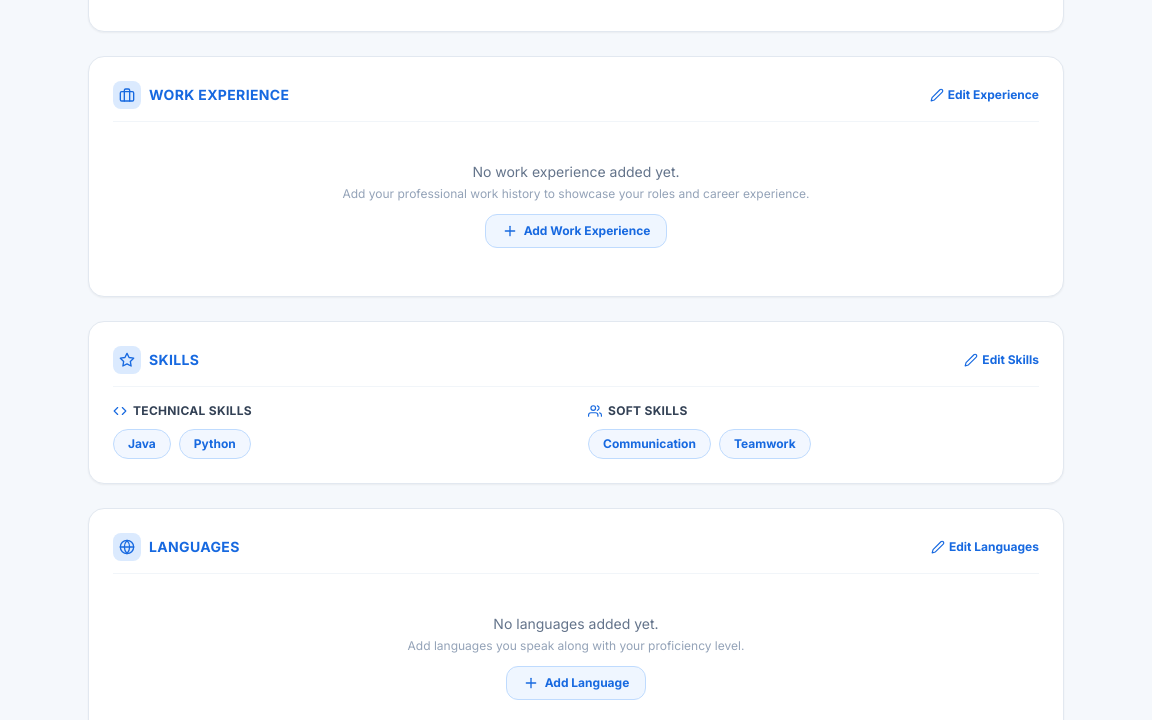
JobSeekerProfile › removes a skill from the selected category when deleted
The image size is (1152, 720).
(page scrolled)
Step 1. Click the button "Edit Skills" → click(1002, 360), box [964,352,1039,368]
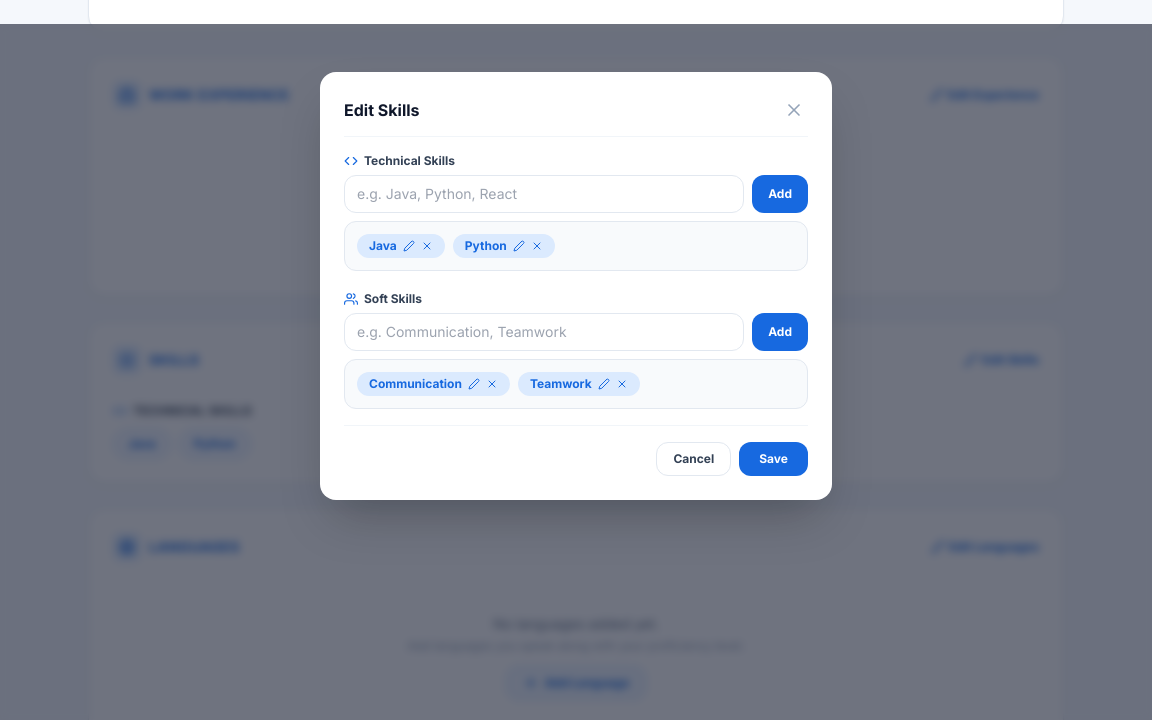
Step 2. Click the 1st button titled "Delete" → click(427, 246), box [421,240,433,252]
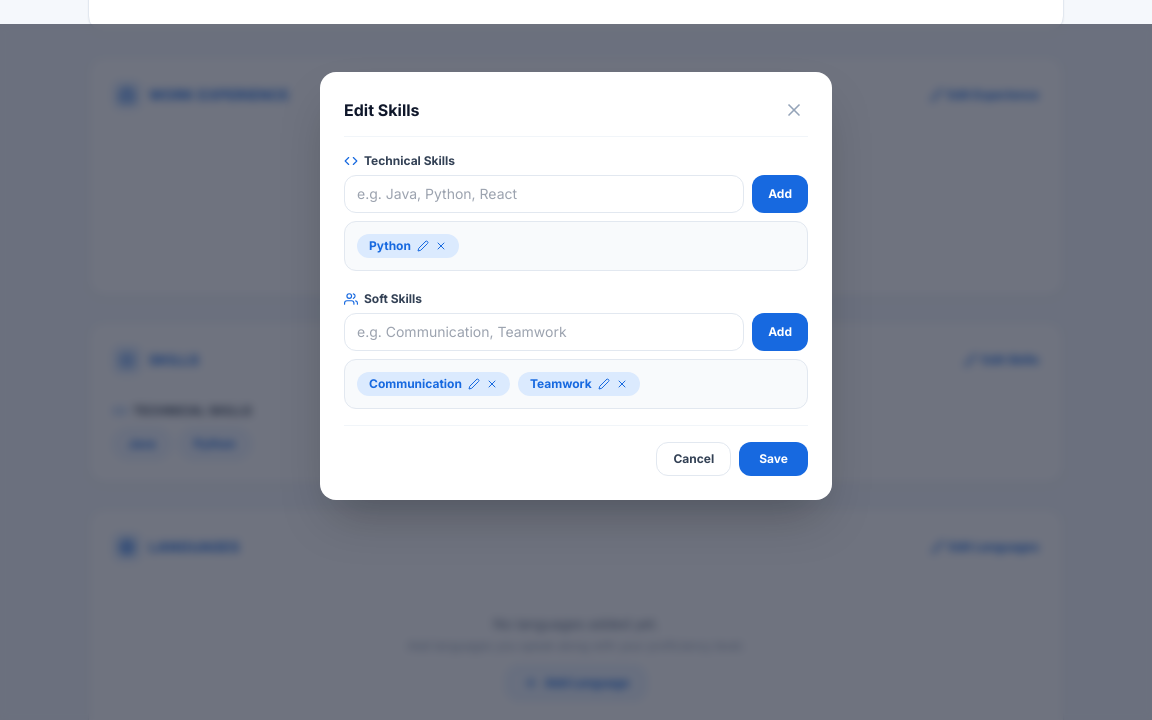
expect the text "Python" is shown: met, box [357,234,459,258]
